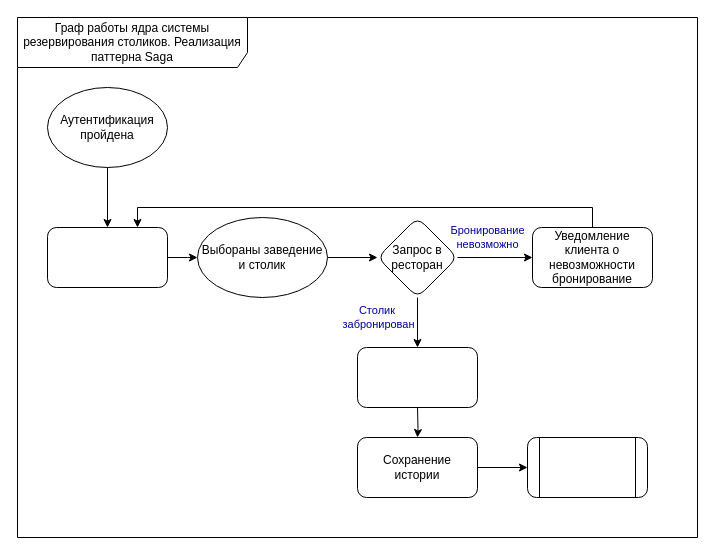
This 715x555 diagram has some shape labels left out. Here are the shapes that lost their labels. From the top down, the centre of each, then its label:
At (107,257): "Получение активных заведений и свободных столиков".
At (417,377): "Уведомление о подтверждение брони".
At (587,467): "Коненц".
